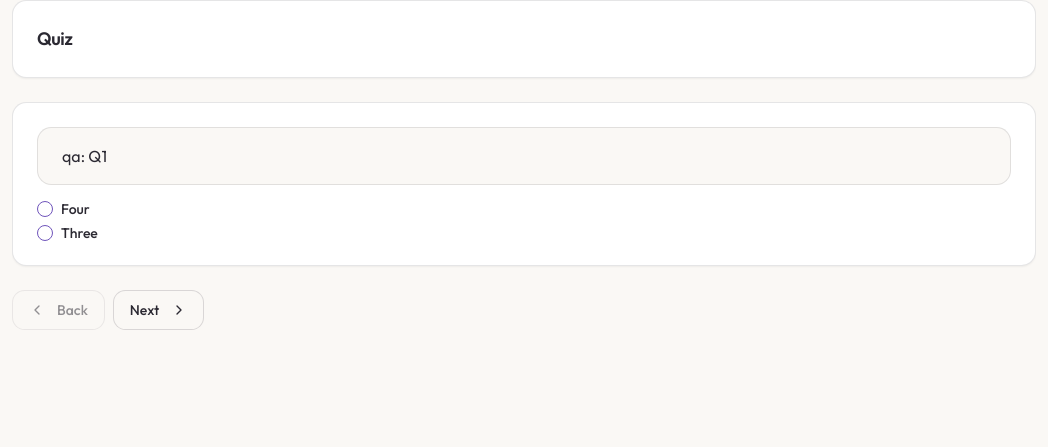
Test: InlineQuizPlayer ordering and recovery › no answer write reaches an attempt after it is finalized
This screenshot has width=1048, height=447.
Click the radio button named "Four" next to "Four": (45, 209) 37,201 -> 53,217
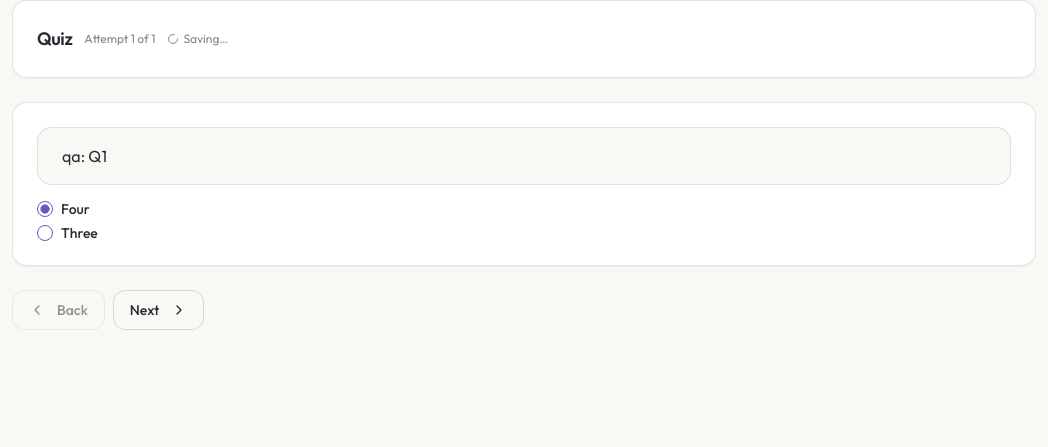
Click the button "Next": (159, 310) 113,290 -> 204,330
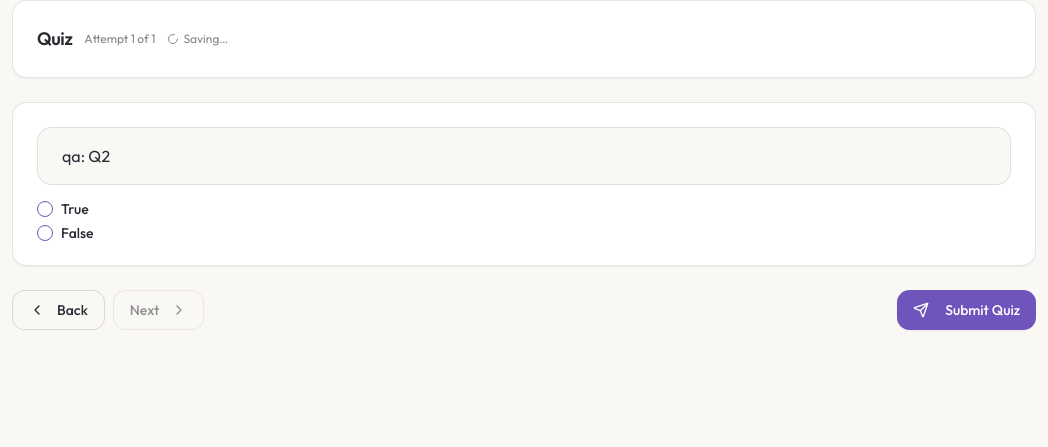
Click the radio button named "False" next to "False": (45, 233) 37,225 -> 53,241
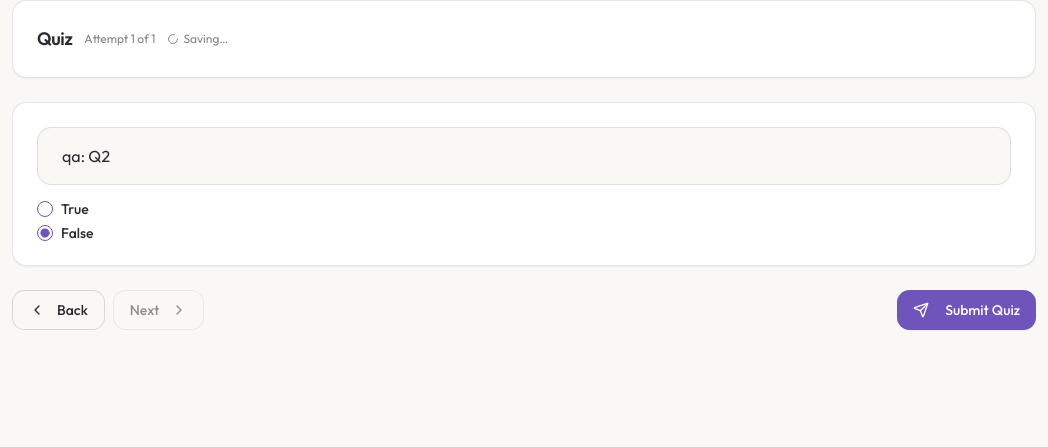
Click the button "Submit Quiz": (967, 310) 897,290 -> 1036,330
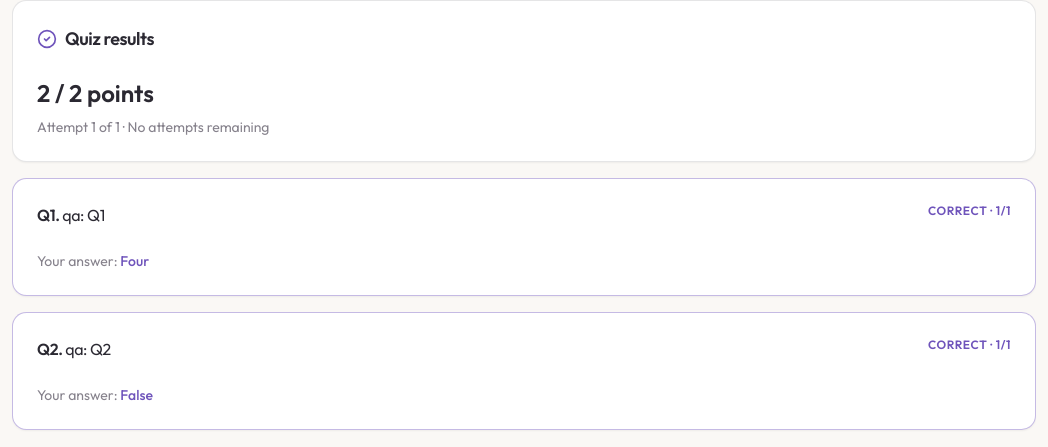
Check: the element with test id "quiz-player-review" is shown
